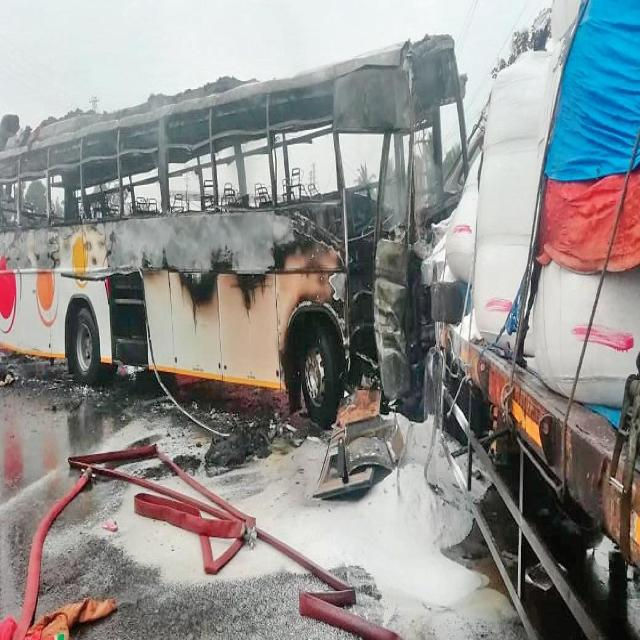accident: (0, 37, 469, 424)
